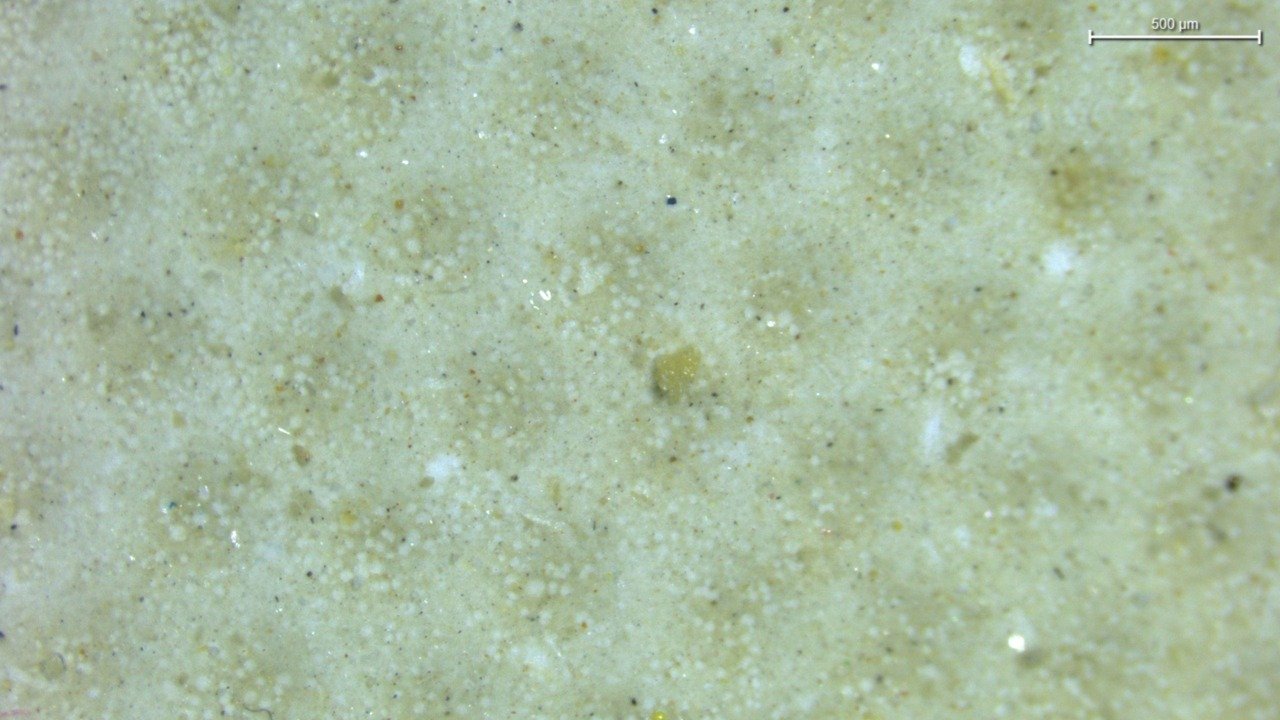microplastic_fragment: (653, 346, 701, 403)
